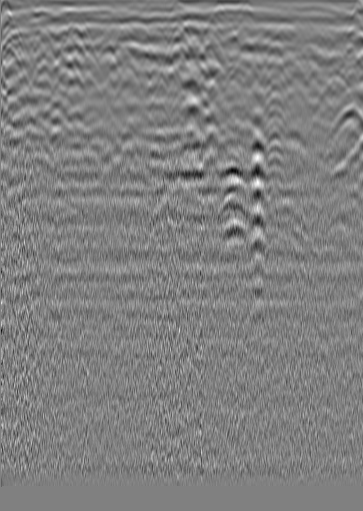가스: (213, 191, 246, 225)
상수: (310, 26, 330, 46)
오수: (29, 27, 49, 47)
우수: (168, 21, 188, 41)
